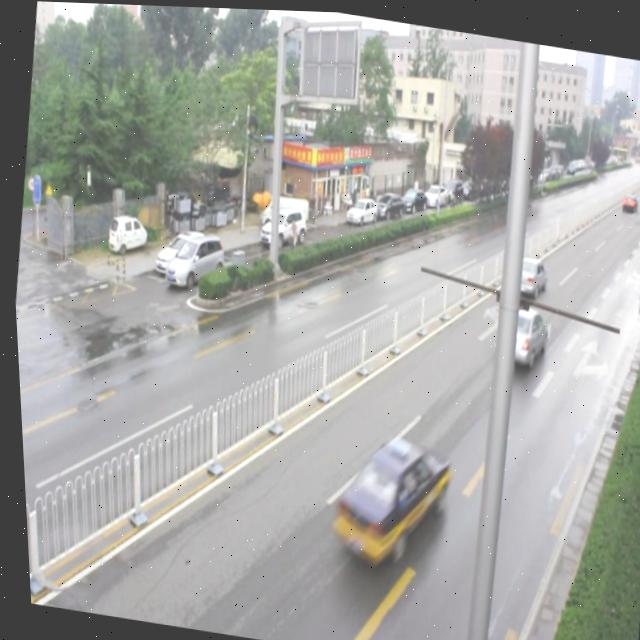car: (318, 425, 449, 573), (485, 296, 545, 368), (502, 247, 545, 293)
